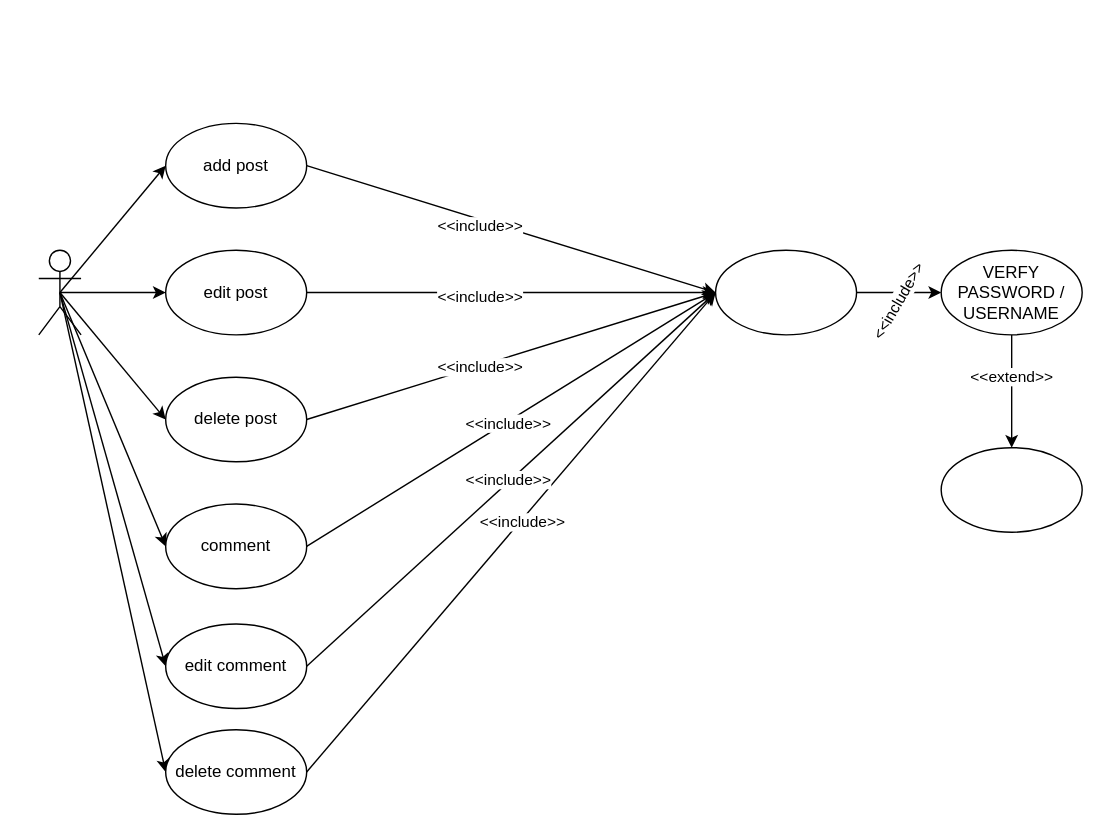
The diagram is 1107 pixels wide and 839 high, and some of its shapes have lost their labels. The box of each missing label's shape, as (x1, y1, x2, y2) in pixels:
DISPLAY AN ERROR: (940, 446, 1082, 532)
login: (714, 249, 857, 335)
utilisateur: (37, 249, 81, 335)
